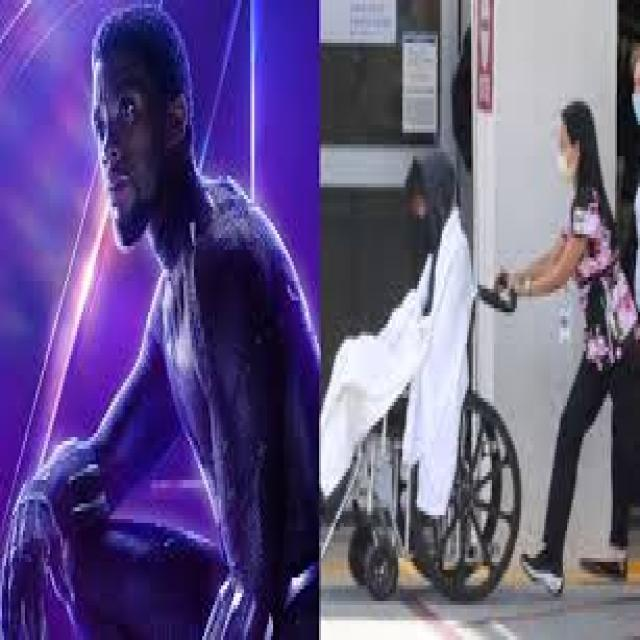wheelchairs: (338, 262, 536, 612)
